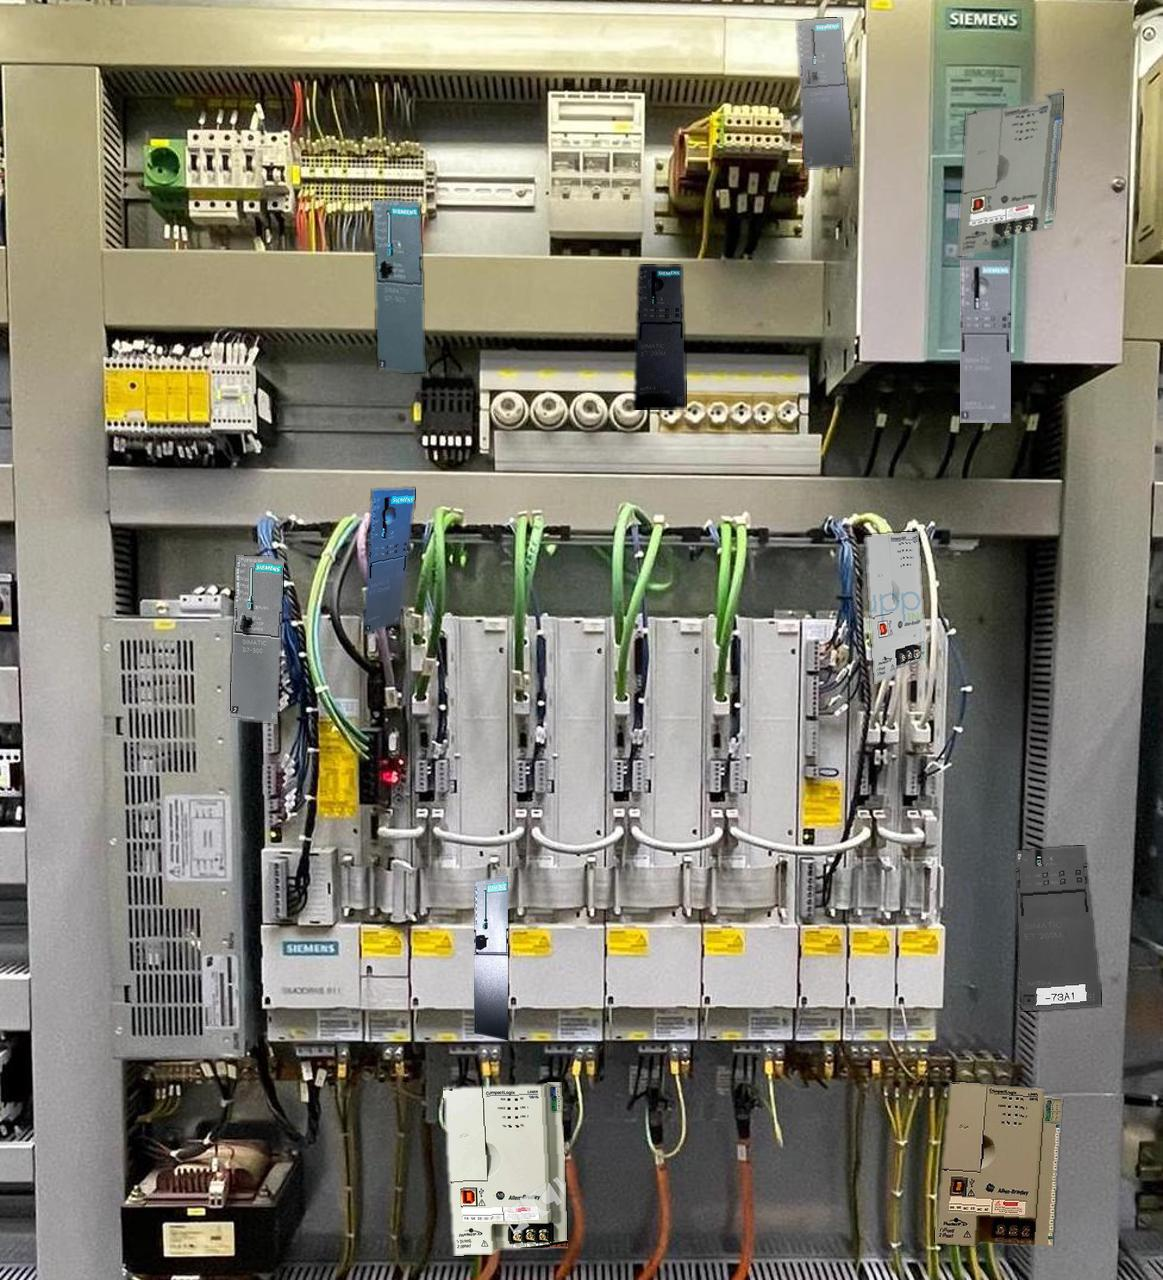AllenBradley: (443, 1082, 566, 1255), (934, 1082, 1062, 1245), (958, 90, 1063, 255), (866, 532, 925, 683)
Siemens: (230, 555, 283, 723), (374, 200, 424, 372), (797, 17, 852, 168), (474, 876, 507, 1039)
